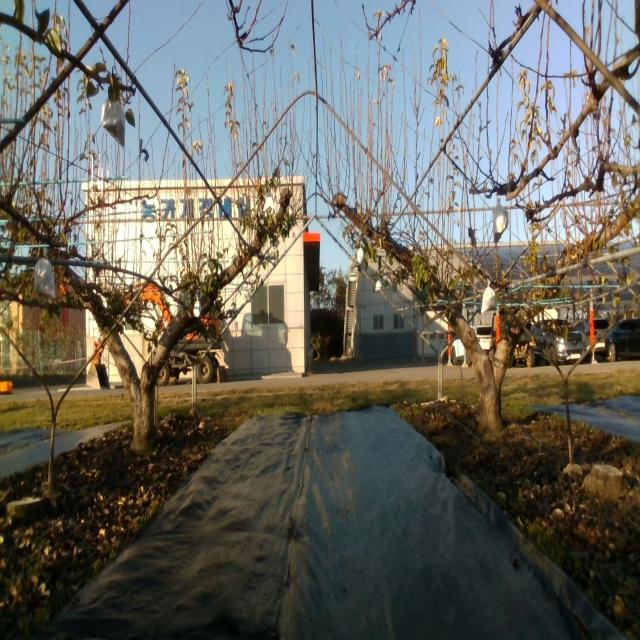pearbags: (100, 89, 127, 146), (33, 246, 55, 299), (493, 200, 509, 244), (481, 279, 496, 314), (263, 191, 274, 211)
